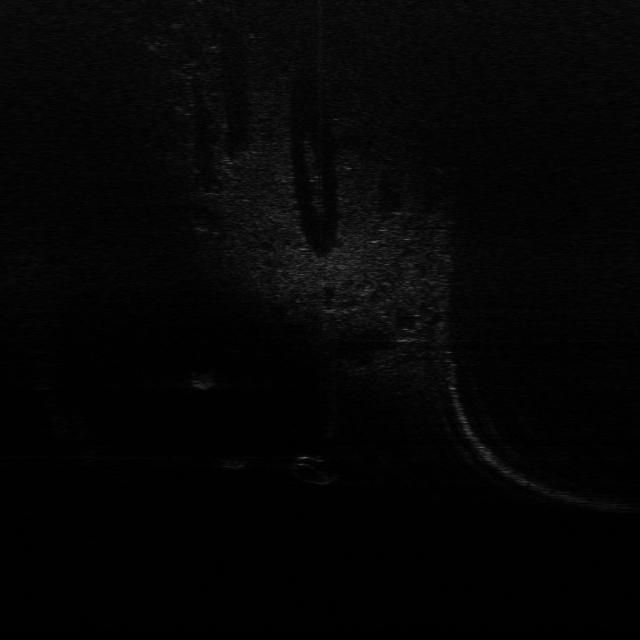cube: (217, 452, 253, 472)
tyre: (288, 452, 337, 486), (186, 368, 220, 390)
